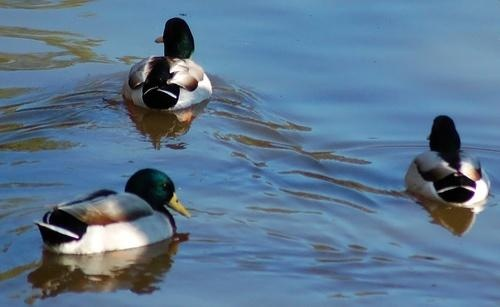bird: (34, 166, 195, 257), (404, 112, 494, 212), (126, 16, 217, 114)
